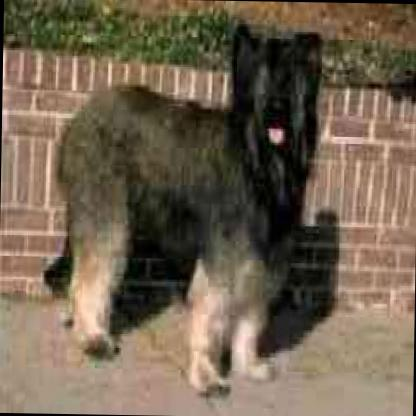briard: (40, 13, 320, 390)
